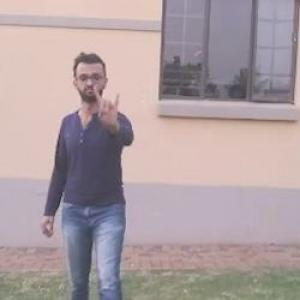takeoff-hand: (88, 78, 127, 127)
